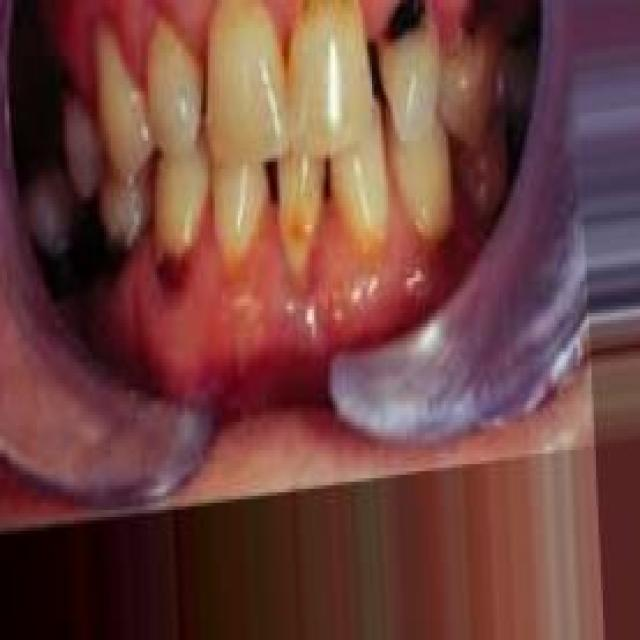caries: (372, 0, 439, 54)
